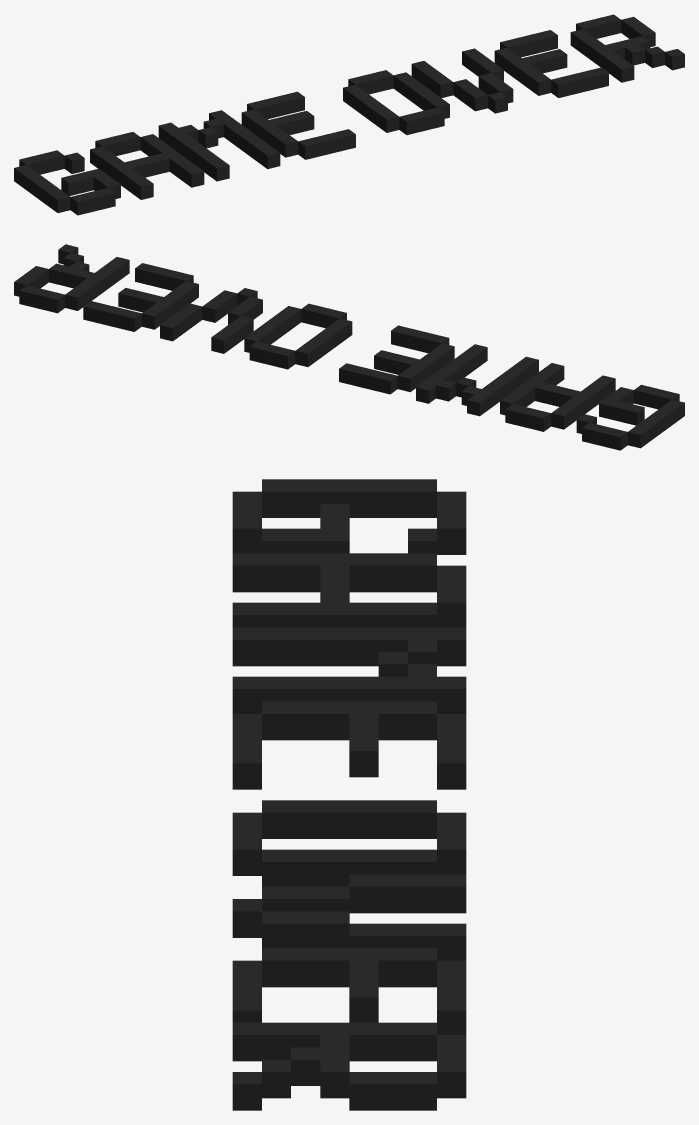
File: GameOverText.obj
3 views of the same model, one above another, from view 1: azimuth 30°, elevation 25°; view 2: azimuth 150°, elevation 25°; view 3: azimuth 270°, elevation 25° (orthographic). The views are drawn at different scales.
Size of the model in its own units: 4.9 by 0.1 by 0.8.
1 material, 1 textured.
